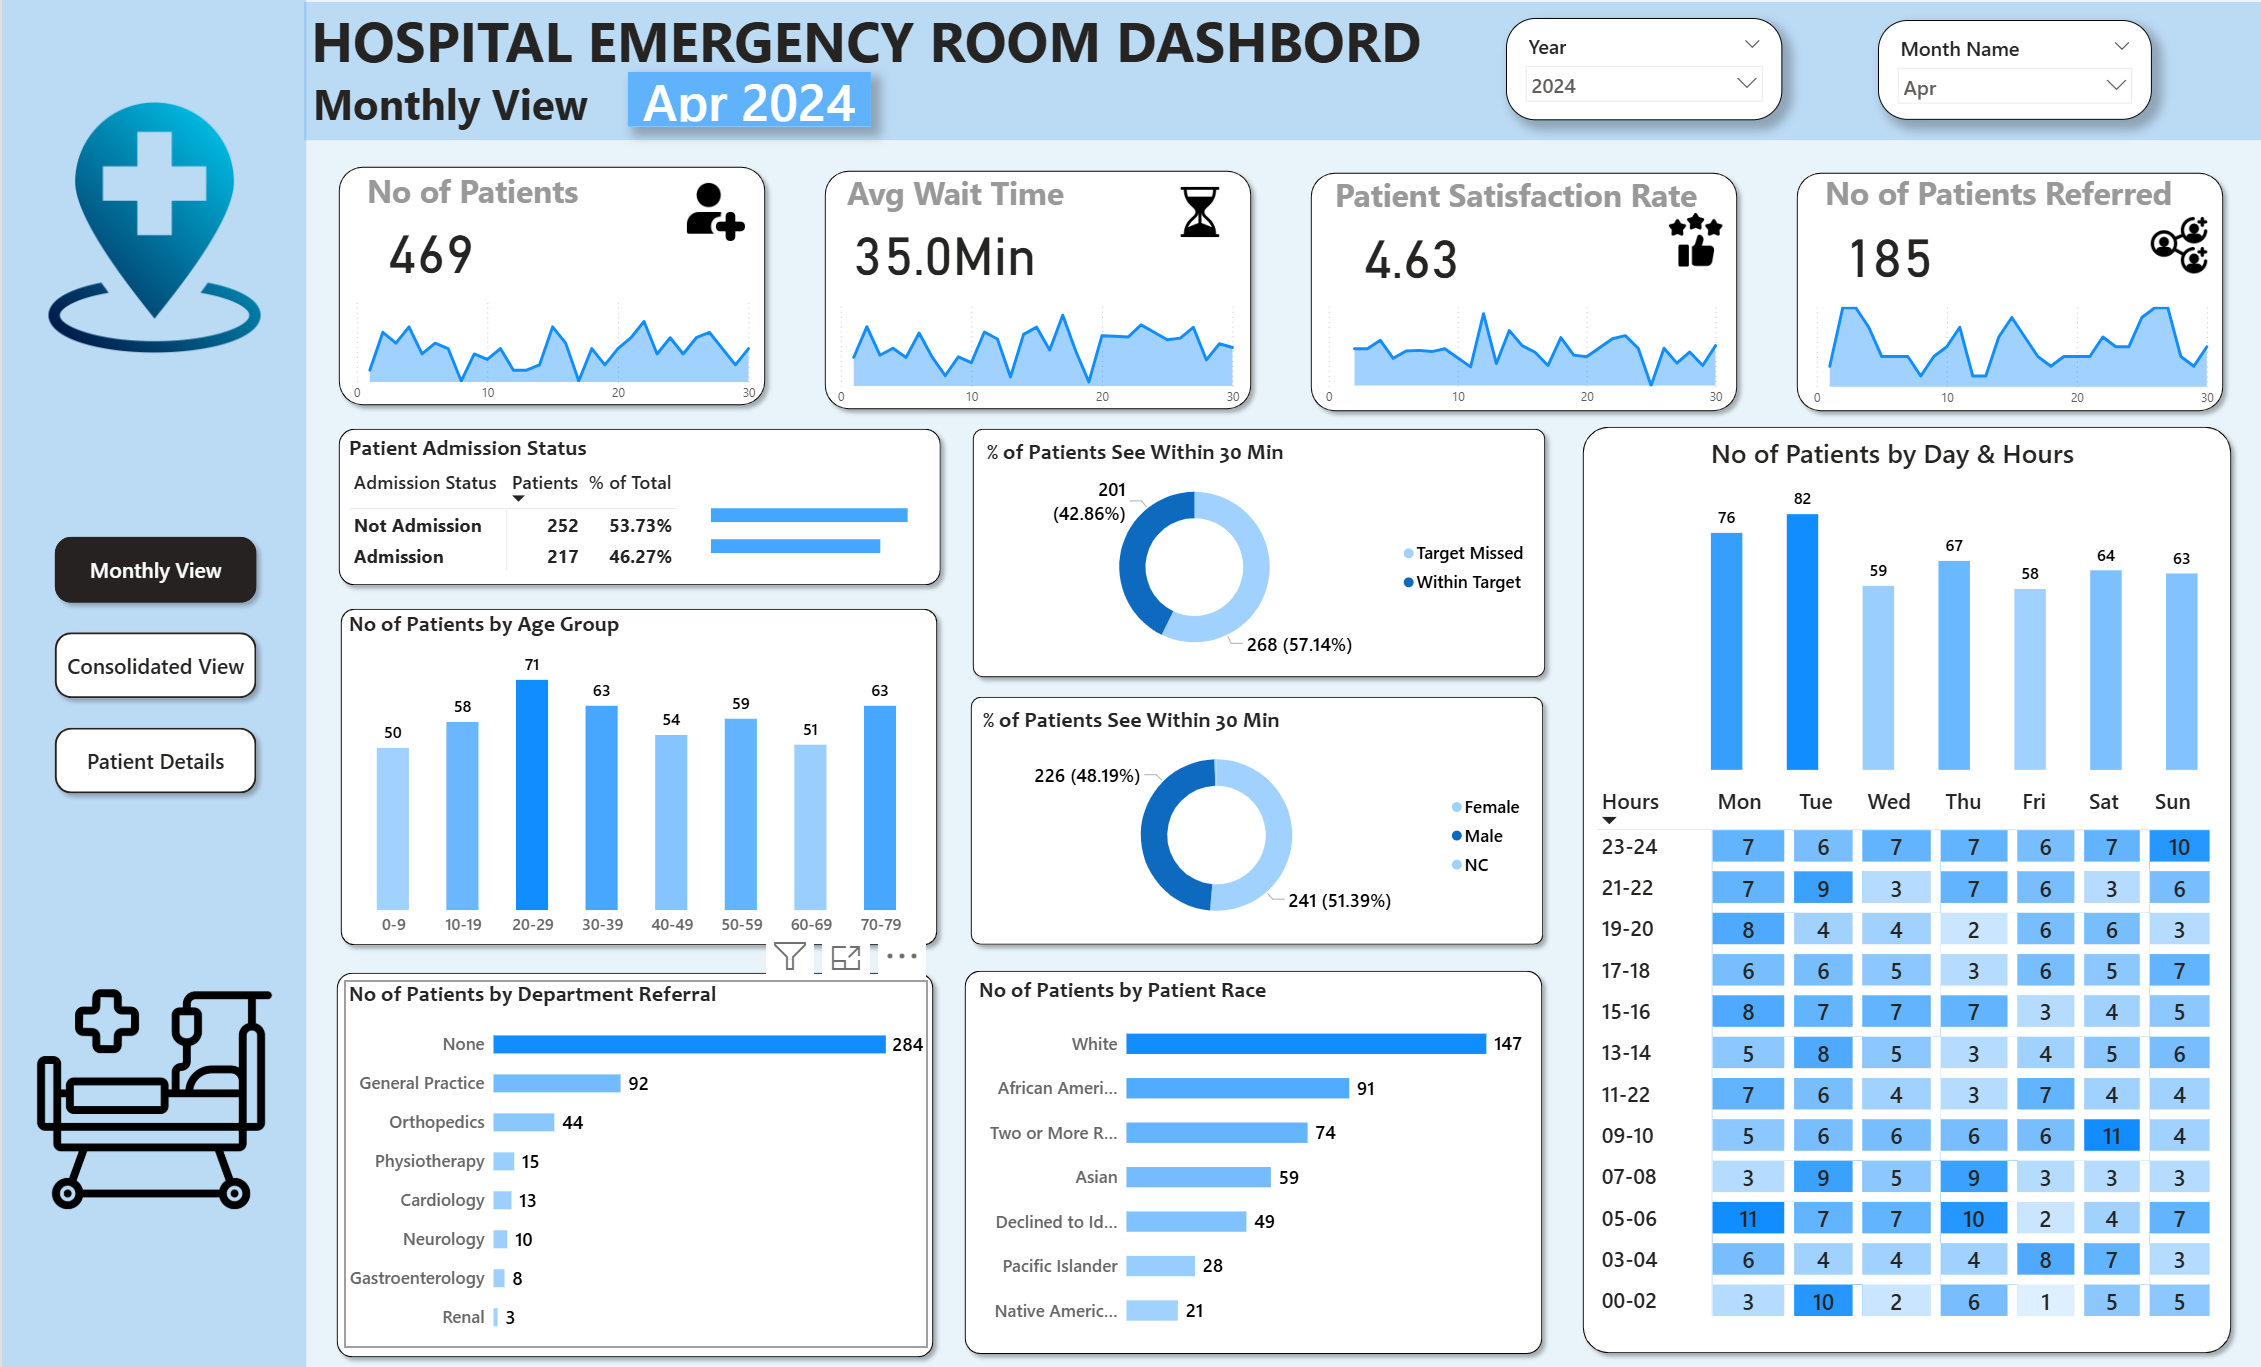

This screenshot's page, from the dashboard's own definition file:
{"tool":"powerbi","page":{"name":"Monthly View","canvas":[2300,1400],"ordinal":0},"visuals":[{"type":"shape","box":[0,0,309.4,1400],"z":0},{"type":"shape","box":[307.5,4.8,1992.5,140.4],"z":1000},{"type":"textbox","box":[309.9,0,1990.1,92],"z":2000},{"type":"textbox","box":[311.1,73.2,394.5,81.3],"z":3000},{"type":"slicer","fields":{"Values":["Date.Year"]},"box":[1530.1,19.4,280.8,104.1],"z":4000},{"type":"shape","box":[1816.7,168.5,451.5,260.3],"z":5000},{"type":"textbox","box":[1847.9,170.9,373.3,63.1],"z":6000},{"type":"card","fields":{"Values":["Hospital ER_Data.No of Patients Refsrred"]},"box":[1830.3,217.9,176.7,79.9],"z":7000},{"type":"slicer","fields":{"Values":["Date.Month"]},"box":[1907.8,21.8,278.4,101.7],"z":8000},{"type":"areaChart","fields":{"Category":["Date.Date.Variation.Date Hierarchy.Day"],"Y":["Hospital ER_Data.No of Patients Refsrred"]},"box":[1830,300,426.7,123.3],"z":9000},{"type":"card","fields":{"Values":["Min(Date.Month & Year)"]},"box":[636.7,75.1,246.9,55.7],"z":10000},{"type":"shape","box":[1321.6,169.7,451.5,260.3],"z":11000},{"type":"textbox","box":[1350.9,171.9,421.3,82.3],"z":12000},{"type":"card","fields":{"Values":["Hospital ER_Data.Satisfaction Score"]},"box":[1335.3,218.2,194.5,81.5],"z":13000},{"type":"areaChart","fields":{"Category":["Date.Date.Variation.Date Hierarchy.Day"],"Y":["Hospital ER_Data.Satisfaction Score"]},"box":[1335,298.3,423.3,125],"z":14000},{"type":"shape","box":[827.7,166,451.5,260.3],"z":15000},{"type":"shape","box":[333.8,428.5,630,177],"z":16000},{"type":"textbox","box":[853.3,170,285,65],"z":17000},{"type":"card","fields":{"Values":["Hospital ER_Data.Avg Wait Time"]},"box":[841.1,215.5,233.6,80.5],"z":18000},{"type":"areaChart","fields":{"Category":["Date.Date.Variation.Date Hierarchy.Day"],"Y":["Avg(Hospital ER_Data.Patient Waittime)"]},"box":[838.3,296.7,428.3,126.7],"z":19000},{"type":"pivotTable","title":"Patient Admission Status","fields":{"Rows":["Hospital ER_Data.Admission Status"],"Values":["Hospital ER_Data.No of Patients1","Divide(Hospital ER_Data.No of Patients, ScopedEval(Hospital ER_Data.No of Patients, []))"]},"box":[348.6,443.1,593.2,145.3],"z":20000},{"type":"barChart","fields":{"Category":["Hospital ER_Data.Admission Status"],"Y":["Hospital ER_Data.No of Patients"]},"box":[715.8,490.1,248.1,97.6],"z":21000},{"type":"shape","box":[333.8,163.6,451.5,260.3],"z":22000},{"type":"textbox","box":[366,168.7,285.6,64.9],"z":23000},{"type":"card","fields":{"Values":["Hospital ER_Data.No of Patients"]},"box":[347.4,213.1,176.7,79.9],"z":24000},{"type":"areaChart","fields":{"Category":["Date.Date.Variation.Date Hierarchy.Day"],"Y":["Hospital ER_Data.No of Patients"]},"box":[345,293.3,428.3,126.7],"z":25000},{"type":"shape","box":[336.6,612.1,624.3,360],"z":26000},{"type":"clusteredColumnChart","fields":{"Category":["Hospital ER_Data.Age Group"],"Y":["Hospital ER_Data.No of Patients"]},"box":[348.6,623.2,596.7,341.1],"z":27000},{"type":"shape","box":[332.2,982.2,624.4,408.9],"z":28000},{"type":"clusteredBarChart","fields":{"Category":["Hospital ER_Data.Department Referral"],"Y":["Hospital ER_Data.No of Patients"]},"box":[348,998,594,374],"z":29000},{"type":"shape","box":[978.2,429.1,599.9,270.5],"z":30000},{"type":"donutChart","title":"% of Patients See Within 30 Min","fields":{"Category":["Hospital ER_Data.Waittime Status"],"Y":["Hospital ER_Data.No of Patients"]},"box":[996.7,448.3,565,235],"z":31000},{"type":"shape","box":[975.8,701.7,600,270],"z":32000},{"type":"donutChart","title":"% of Patients See Within 30 Min","fields":{"Y":["Hospital ER_Data.No of Patients"],"Category":["Hospital ER_Data.Patient Gender"]},"box":[992.5,720,565,235],"z":33000},{"type":"shape","box":[970,980,605,407.5],"z":34000},{"type":"clusteredBarChart","fields":{"Y":["Hospital ER_Data.No of Patients"],"Category":["Hospital ER_Data.Patient Race"]},"box":[987.5,995,570,375],"z":35000},{"type":"shape","box":[1598.4,427.1,677.2,959.9],"z":36000},{"type":"pivotTable","fields":{"Rows":["Hospital ER_Data.Waittime Interval"],"Columns":["Date.Day Name"],"Values":["Hospital ER_Data.No of Patients"]},"box":[1615.7,794.3,641.4,578.6],"z":37000},{"type":"columnChart","title":"No of Patients by Day & Hours","fields":{"Category":["Date.Day Name"],"Y":["Hospital ER_Data.No of Patients"]},"box":[1732.5,442.5,507.5,347.5],"z":38000},{"type":"image","box":[1185.6,187.1,65.1,61],"z":39000},{"type":"image","box":[690.9,183.6,69.1,69.1],"z":40000},{"type":"image","box":[2170,217.5,87.5,67.5],"z":41000},{"type":"image","box":[1686.7,213.3,72.2,64.4],"z":42000},{"type":"image","box":[22.9,97.4,265.5,271.2],"z":43000},{"type":"pageNavigator","box":[43.9,538.6,223.5,280.8],"z":43001},{"type":"image","box":[22.9,970.3,265.5,299.9],"z":43002}]}

Visuals, with their boxes in screenshot pixels (x1, y1, x2, y2), scaled from the page's 2300x1400 canvas onto the 2261x1367 screenshot:
shape: box(0, 0, 304, 1366)
shape: box(302, 5, 2260, 142)
textbox: box(305, 0, 2260, 90)
textbox: box(306, 71, 694, 151)
slicer - Date.Year: box(1504, 19, 1780, 121)
shape: box(1786, 165, 2230, 419)
textbox: box(1817, 167, 2184, 228)
card - Hospital ER_Data.No of Patients Refsrred: box(1799, 213, 1973, 291)
slicer - Date.Month: box(1875, 21, 2149, 121)
areaChart - Date.Date.Variation.Date Hierarchy.Day x Hospital ER_Data.No of Patients Refsrred: box(1799, 293, 2218, 413)
card - Min(Date.Month & Year): box(626, 73, 869, 128)
shape: box(1299, 166, 1743, 420)
textbox: box(1328, 168, 1742, 248)
card - Hospital ER_Data.Satisfaction Score: box(1313, 213, 1504, 293)
areaChart - Date.Date.Variation.Date Hierarchy.Day x Hospital ER_Data.Satisfaction Score: box(1312, 291, 1728, 413)
shape: box(814, 162, 1258, 416)
shape: box(328, 418, 947, 591)
textbox: box(839, 166, 1119, 229)
card - Hospital ER_Data.Avg Wait Time: box(827, 210, 1056, 289)
areaChart - Date.Date.Variation.Date Hierarchy.Day x Avg(Hospital ER_Data.Patient Waittime): box(824, 290, 1245, 413)
"Patient Admission Status" pivotTable: box(343, 433, 926, 575)
barChart - Hospital ER_Data.Admission Status x Hospital ER_Data.No of Patients: box(704, 479, 948, 574)
shape: box(328, 160, 772, 414)
textbox: box(360, 165, 641, 228)
card - Hospital ER_Data.No of Patients: box(342, 208, 515, 286)
areaChart - Date.Date.Variation.Date Hierarchy.Day x Hospital ER_Data.No of Patients: box(339, 286, 760, 410)
shape: box(331, 598, 945, 949)
clusteredColumnChart - Hospital ER_Data.Age Group x Hospital ER_Data.No of Patients: box(343, 609, 929, 942)
shape: box(327, 959, 940, 1358)
clusteredBarChart - Hospital ER_Data.Department Referral x Hospital ER_Data.No of Patients: box(342, 974, 926, 1340)
shape: box(962, 419, 1551, 683)
"% of Patients See Within 30 Min" donutChart: box(980, 438, 1535, 667)
shape: box(959, 685, 1549, 949)
"% of Patients See Within 30 Min" donutChart: box(976, 703, 1531, 932)
shape: box(954, 957, 1548, 1355)
clusteredBarChart - Hospital ER_Data.No of Patients x Hospital ER_Data.Patient Race: box(971, 972, 1531, 1338)
shape: box(1571, 417, 2237, 1354)
pivotTable - Hospital ER_Data.Waittime Interval x Date.Day Name: box(1588, 776, 2219, 1341)
"No of Patients by Day & Hours" columnChart: box(1703, 432, 2202, 771)
image: box(1165, 183, 1229, 242)
image: box(679, 179, 747, 247)
image: box(2133, 212, 2219, 278)
image: box(1658, 208, 1729, 271)
image: box(23, 95, 284, 360)
pageNavigator: box(43, 526, 263, 800)
image: box(23, 947, 284, 1240)
